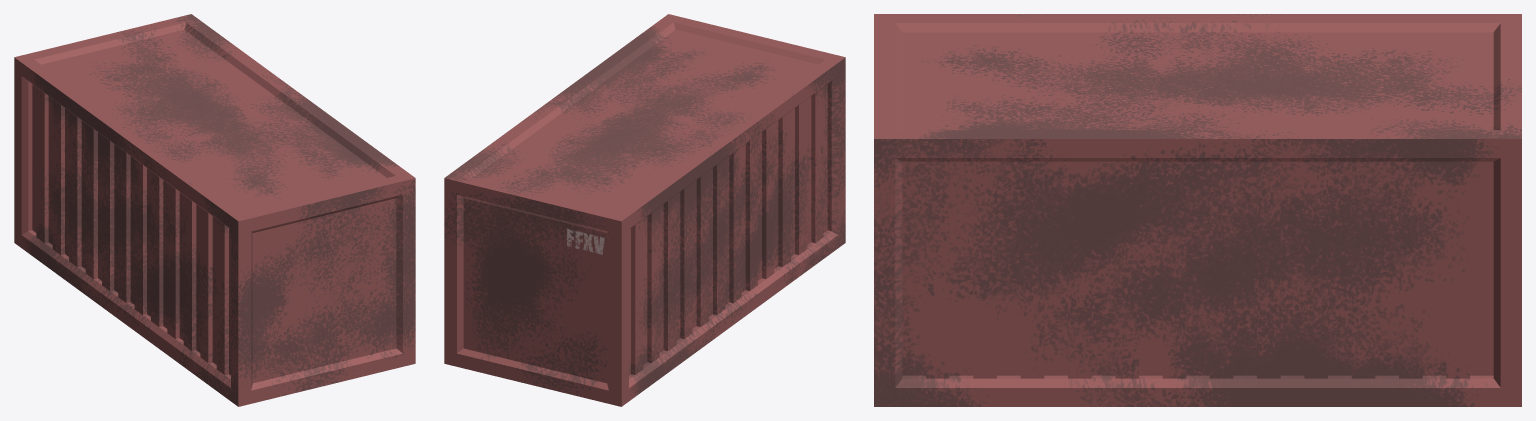
The model's file is Crate.fbx.
The picture shows the model from 3 angles, left to right: view 1: azimuth 30°, elevation 25°; view 2: azimuth 150°, elevation 25°; view 3: azimuth 270°, elevation 25°; orthographic projection. The views are drawn at different scales.
Visible parts, largest first — view 1: HighPoly; view 2: HighPoly; view 3: HighPoly.
Boxes of the visible parts, bbox=[...] form: HighPoly: bbox=[14, 14, 415, 406]; HighPoly: bbox=[444, 14, 845, 406]; HighPoly: bbox=[874, 14, 1521, 406].
Bounding box in the file's own units: 4.2 × 4.2 × 9.2.
